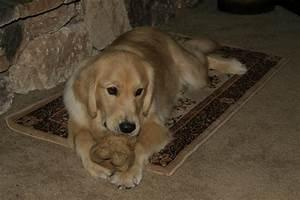dog: (62, 24, 247, 189)
